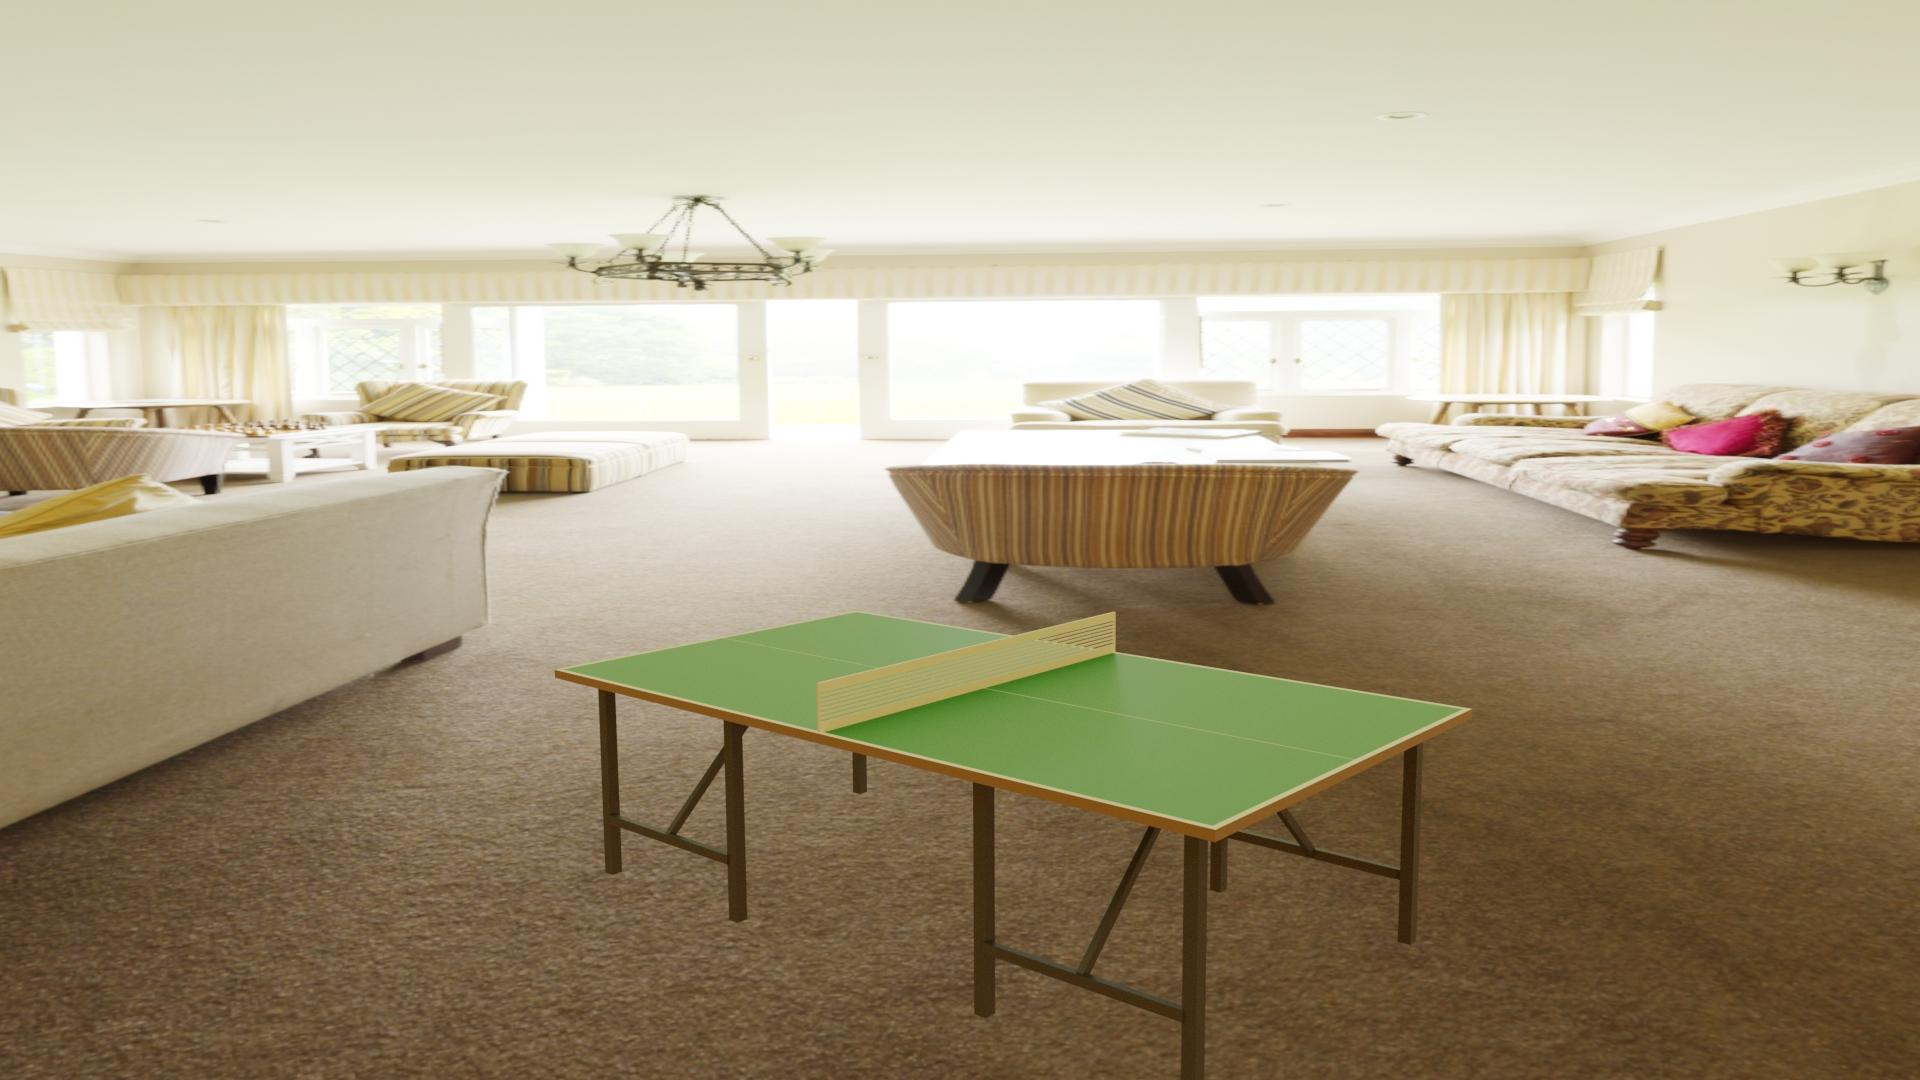table: (563, 612, 1464, 825)
